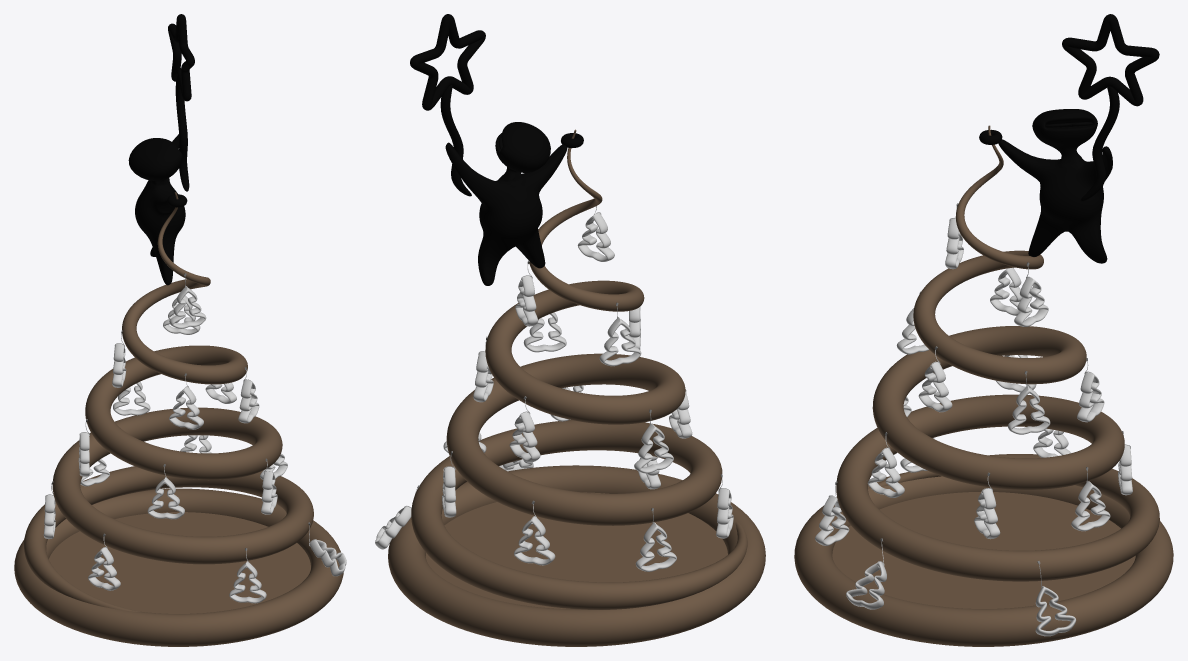
File: jolka s igruskami.FBX
3 views of the same model, side by side, from view 1: azimuth 30°, elevation 25°; view 2: azimuth 150°, elevation 25°; view 3: azimuth 270°, elevation 25° (orthographic). The views are drawn at different scales.
Parts seen in each view (by area): view 1: верх, низ, Circle004, бро, Star001, Cylinder001, игушка елка015, игушка елка024, игушка елка027, игушка елка028, игушка елка019, игушка елка029 (+7 smaller); view 2: верх, низ, Circle004, бро, Star001, игушка елка027, игушка елка020, игушка елка013, игушка елка014, игушка елка025, игушка елка021, Cylinder001 (+7 smaller); view 3: верх, низ, Circle004, бро, Star001, Cylinder001, игушка елка016, игушка елка026, игушка елка018, игушка елка023, игушка елка022, игушка елка029 (+9 smaller).
Boxes of the visible parts, box(x1,y1,x2,y2) form: верх: box(24, 192, 313, 611); низ: box(14, 488, 343, 646); Circle004: box(49, 512, 310, 613); бро: box(128, 132, 187, 285); Star001: box(168, 14, 194, 101); Cylinder001: box(175, 75, 189, 191); игушка елка015: box(88, 547, 120, 590); игушка елка024: box(169, 386, 203, 429); игушка елка027: box(169, 286, 206, 328); игушка елка028: box(229, 561, 266, 603); игушка елка019: box(147, 477, 184, 519); игушка елка029: box(309, 540, 346, 576); верх: box(411, 129, 747, 609); низ: box(388, 465, 765, 646); Circle004: box(426, 492, 727, 608); бро: box(445, 122, 567, 285); Star001: box(410, 14, 485, 110); игушка елка027: box(577, 213, 614, 261); игушка елка020: box(634, 424, 673, 473); игушка елка013: box(514, 516, 555, 565); игушка елка014: box(635, 523, 676, 571); игушка елка025: box(599, 317, 641, 366); игушка елка021: box(509, 412, 540, 462); Cylinder001: box(440, 85, 471, 196); верх: box(836, 125, 1159, 581); низ: box(794, 472, 1173, 646); Circle004: box(832, 492, 1135, 608); бро: box(998, 109, 1112, 263); Star001: box(1062, 14, 1159, 106); Cylinder001: box(1080, 86, 1119, 201); игушка елка016: box(1071, 482, 1110, 531); игушка елка026: box(1014, 277, 1048, 326); игушка елка018: box(867, 448, 904, 497); игушка елка023: box(918, 362, 952, 412); игушка елка022: box(1008, 386, 1050, 434); игушка елка029: box(846, 561, 886, 609).
Size of the model in its own units: 63.43 by 108 by 62.66.
